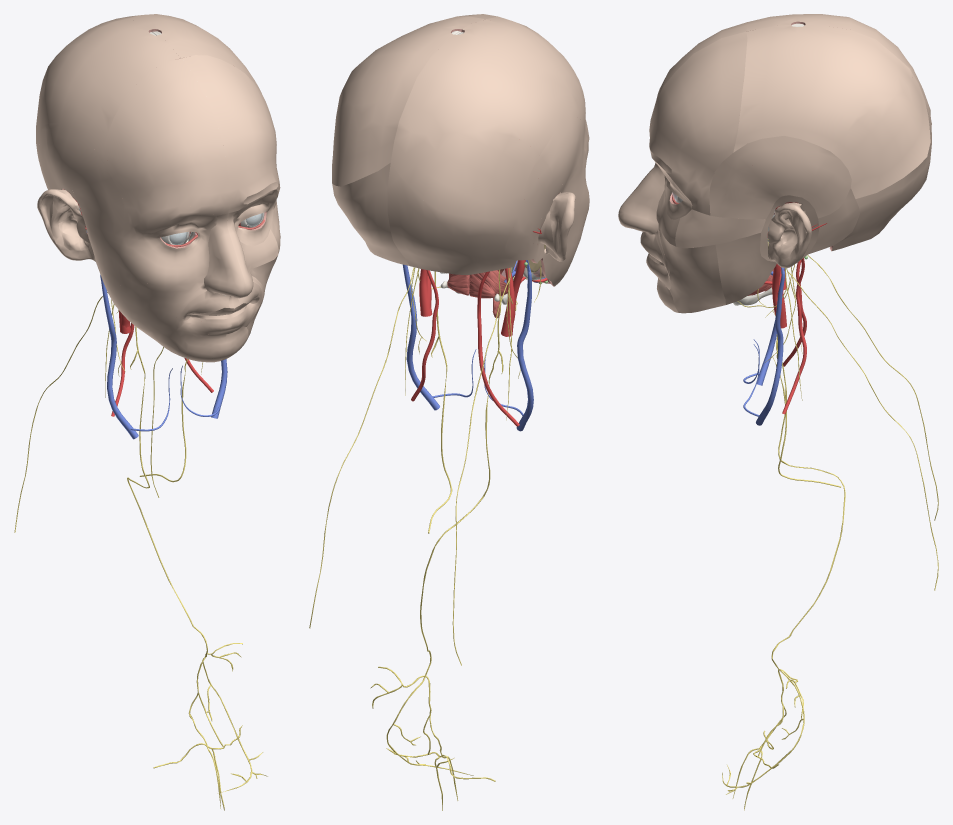
Rendered from head.glb.
3 views of the same model, side by side, from view 1: azimuth 30°, elevation 25°; view 2: azimuth 150°, elevation 25°; view 3: azimuth 270°, elevation 25° (orthographic). The views are drawn at different scales.
Visible parts, largest first — view 1: frontal_region_r, parietal_region_r, frontal_region_l, temporal_region_r, buccal_region_r, parietal_region_l, orbital_region_r, nasal_region_r, vagus_nerve_x_r, zygomatic_region_r, oral_region_r, orbital_region_l (+11 smaller); view 2: parietal_region_r, parietal_region_l, occipital_region_r, temporal_region_r, occipital_region_l, vagus_nerve_x_r, frontal_region_r, mastoid_region_r, parotideomasseteric_region_r, external_jugular_vein_r, external_jugular_vein_l, middle_pharyngeal_constrictor_r (+8 smaller); view 3: parietal_region_l, frontal_region_l, temporal_region_l, buccal_region_l, occipital_region_l, parotideomasseteric_region_l, zygomatic_region_l, nasal_region_l, parietal_region_r, vagus_nerve_x_r, mastoid_region_l, auricular_region_l (+8 smaller).
Boxes of the visible parts, left/top/right/bottom form: frontal_region_r: left=103, top=58, right=229, bottom=240; parietal_region_r: left=36, top=18, right=181, bottom=164; frontal_region_l: left=182, top=55, right=280, bottom=213; temporal_region_r: left=39, top=123, right=123, bottom=237; buccal_region_r: left=119, top=265, right=203, bottom=358; parietal_region_l: left=118, top=14, right=265, bottom=101; orbital_region_r: left=143, top=212, right=217, bottom=263; nasal_region_r: left=204, top=213, right=245, bottom=298; vagus_nerve_x_r: left=127, top=326, right=267, bottom=810; zygomatic_region_r: left=85, top=219, right=158, bottom=284; oral_region_r: left=179, top=291, right=234, bottom=339; orbital_region_l: left=233, top=189, right=278, bottom=245; parietal_region_r: left=390, top=19, right=580, bottom=220; parietal_region_l: left=332, top=16, right=485, bottom=186; occipital_region_r: left=387, top=163, right=517, bottom=274; temporal_region_r: left=523, top=116, right=585, bottom=222; occipital_region_l: left=332, top=163, right=409, bottom=265; vagus_nerve_x_r: left=370, top=269, right=503, bottom=810; frontal_region_r: left=486, top=16, right=589, bottom=173; mastoid_region_r: left=505, top=202, right=539, bottom=260; parotideomasseteric_region_r: left=540, top=213, right=583, bottom=286; external_jugular_vein_r: left=516, top=274, right=533, bottom=431; external_jugular_vein_l: left=402, top=264, right=439, bottom=410; middle_pharyngeal_constrictor_r: left=469, top=270, right=507, bottom=298; parietal_region_l: left=733, top=24, right=930, bottom=198; frontal_region_l: left=649, top=31, right=747, bottom=215; temporal_region_l: left=709, top=136, right=851, bottom=219; buccal_region_l: left=658, top=228, right=725, bottom=313; occipital_region_l: left=829, top=105, right=931, bottom=251; parotideomasseteric_region_l: left=715, top=233, right=776, bottom=304; zygomatic_region_l: left=675, top=209, right=765, bottom=248; nasal_region_l: left=618, top=162, right=664, bottom=234; parietal_region_r: left=746, top=14, right=929, bottom=107; vagus_nerve_x_r: left=722, top=328, right=845, bottom=810; mastoid_region_l: left=808, top=188, right=859, bottom=254; auricular_region_l: left=760, top=195, right=819, bottom=262.
Bounding box in the file's own units: 0.1867 × 0.6042 × 0.229.
